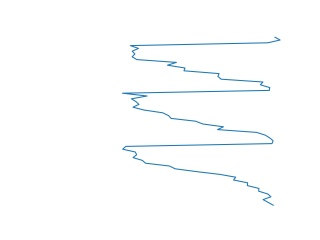distributaryMouthBar: (116, 32, 282, 208)
